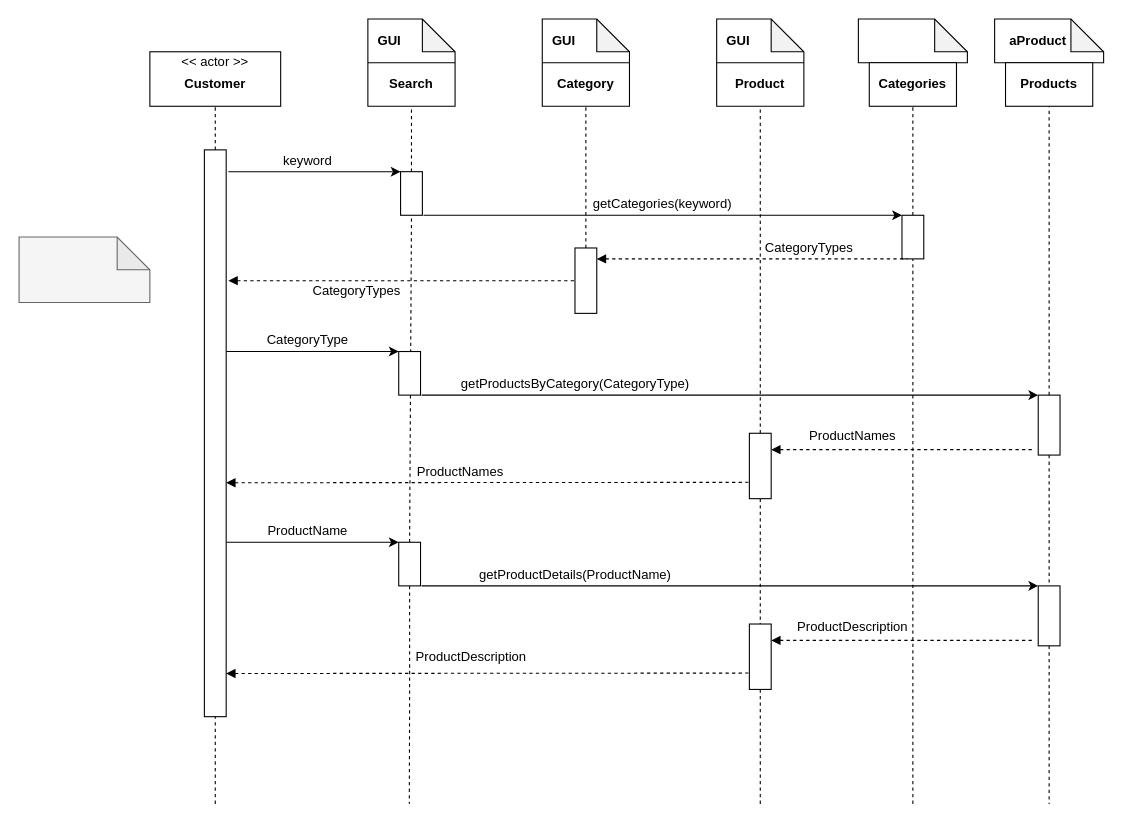
The diagram is 1123 pixels wide and 824 high, and some of its shapes have lost their labels. The centre of each missing label's shape, as x and y in pixels:
aCategory: (912,40)
searchProducts: (84,269)
